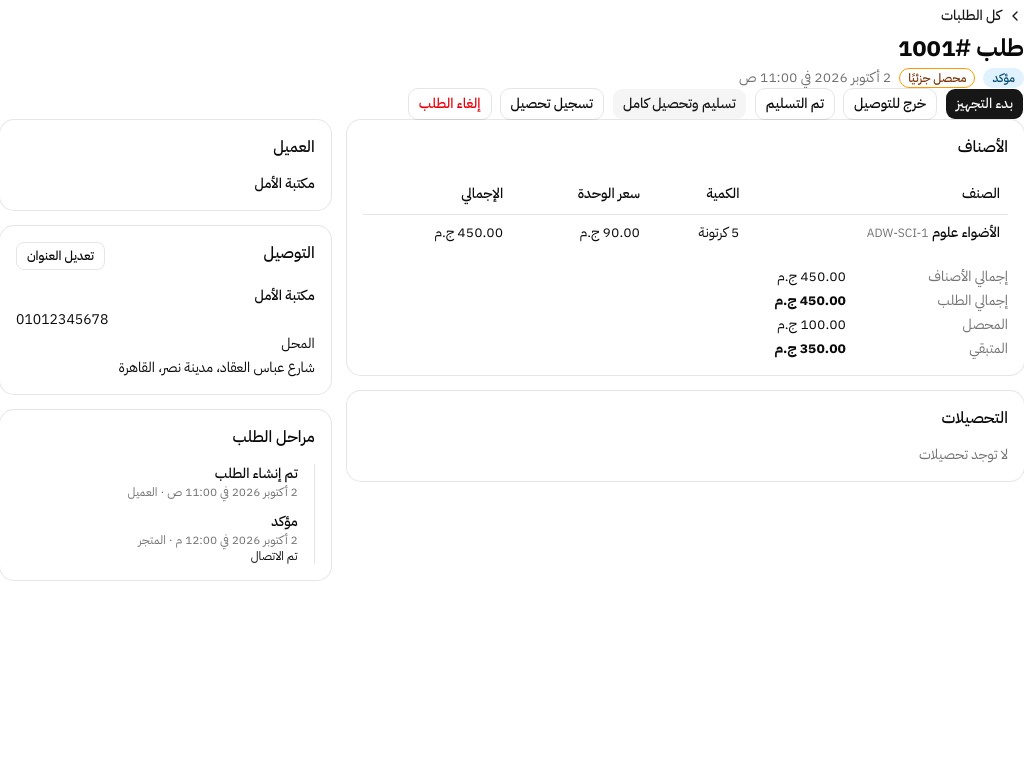
Test case: OrderDetail actions › BR-O03 shows why an order with collections cannot be cancelled
Click the button "إلغاء الطلب": (450, 104) [408,88,492,120]
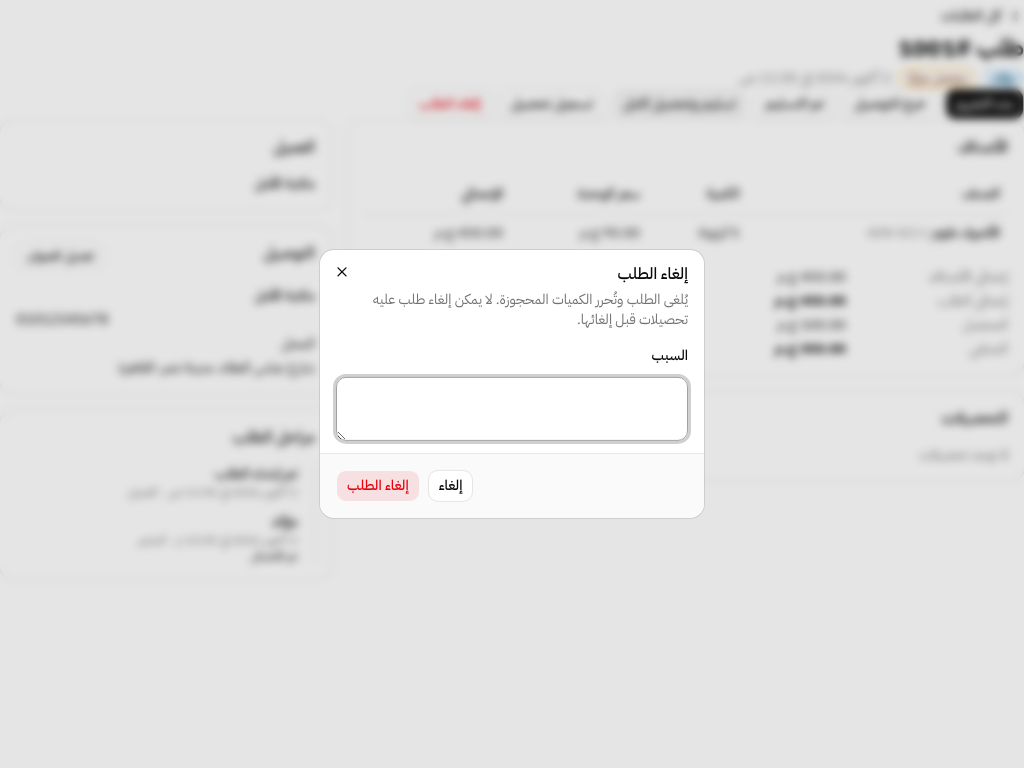
In the text box labelled "السبب": (512, 409) [336,377,688,441], type "العميل اعتذر"
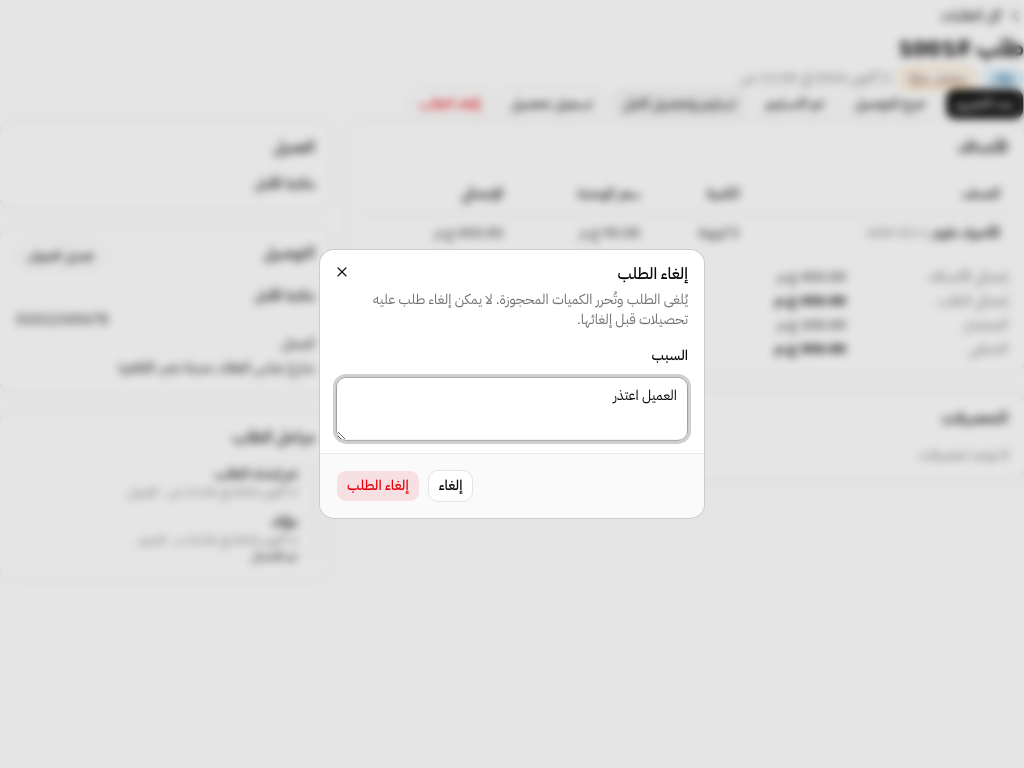
Click the button "إلغاء الطلب": (378, 486) [336,470,420,502]
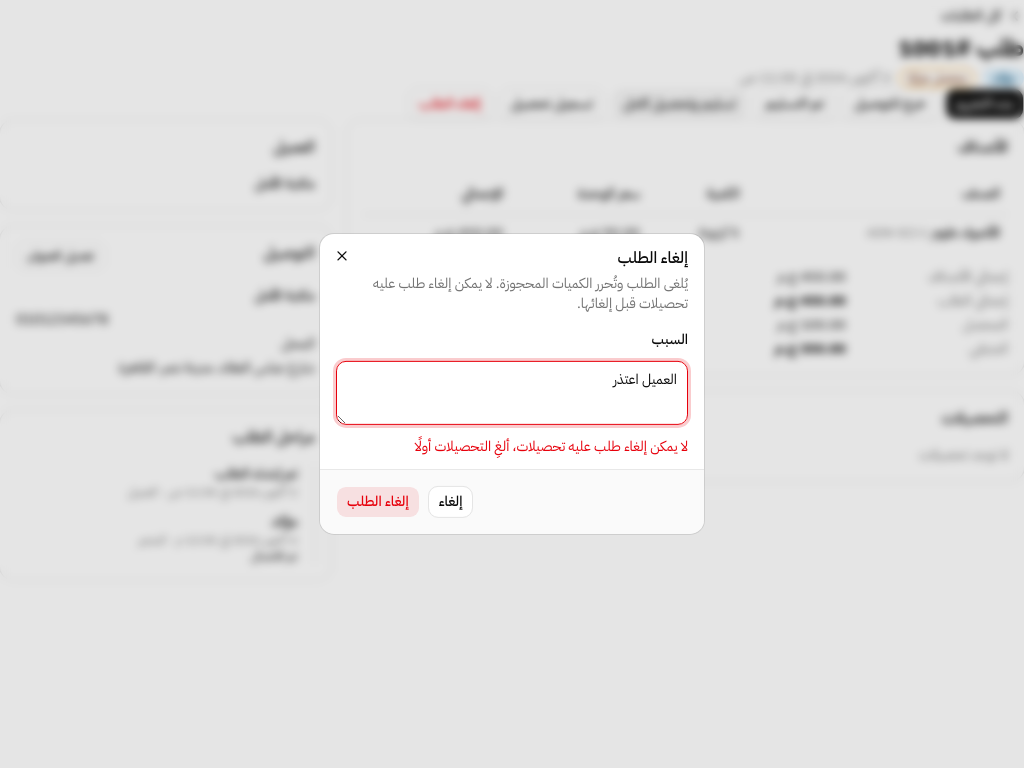
Expected: the message shows "لا يمكن إلغاء طلب عليه تحصيلات", [414,436,688,457]
